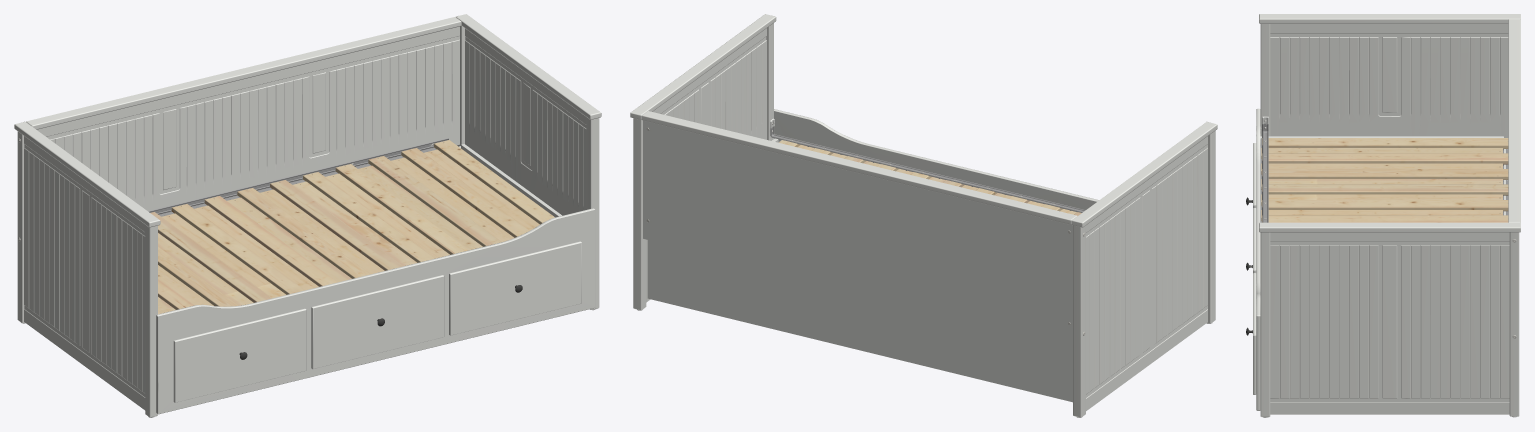
The model's file is HEMNES_30349329.glb.
3 views of the same model, side by side, from view 1: azimuth 30°, elevation 25°; view 2: azimuth 150°, elevation 25°; view 3: azimuth 270°, elevation 25° (orthographic). The views are drawn at different scales.
Visible parts, largest first — view 1: Mesh_0; view 2: Mesh_0; view 3: Mesh_0.
Boxes of the visible parts, left/top/right/bottom form: Mesh_0: left=14, top=14, right=601, bottom=417; Mesh_0: left=630, top=14, right=1217, bottom=417; Mesh_0: left=1246, top=14, right=1520, bottom=417.
Size of the model in its own units: 1.99 by 0.8304 by 1.08.
Materials: 1 (1 with a texture image).
